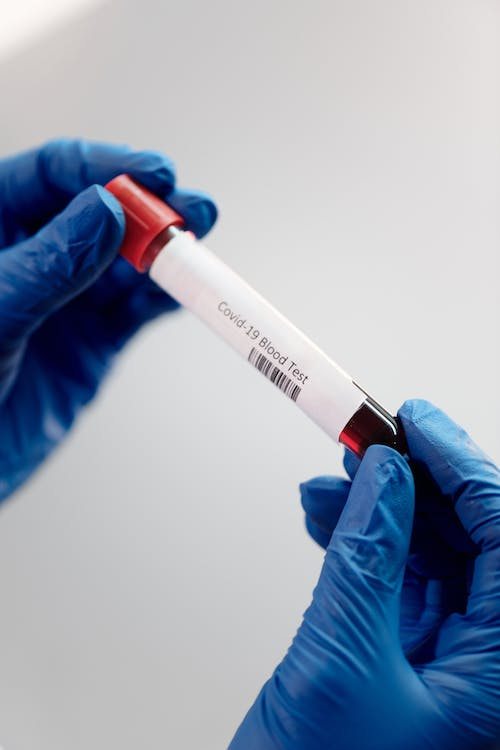blood: (140, 222, 410, 466)
